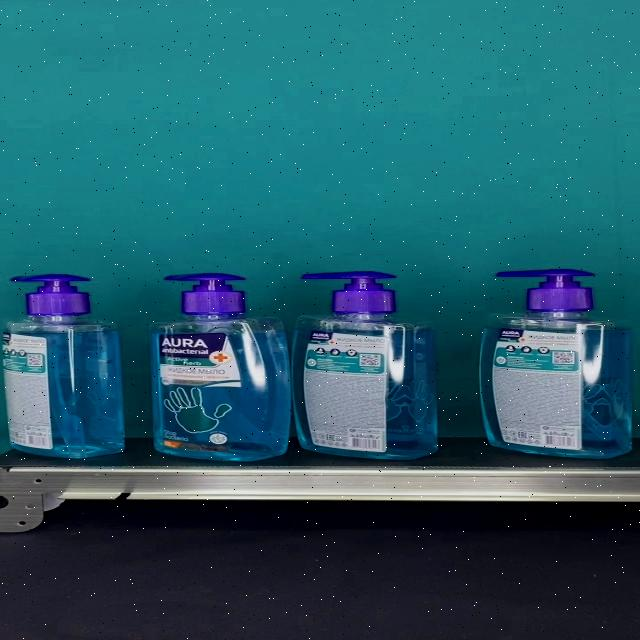Bottle: (478, 269, 632, 458), (292, 271, 437, 460), (151, 272, 291, 461), (3, 274, 124, 458)
Cap: (496, 269, 596, 312), (301, 272, 396, 314), (164, 272, 245, 314), (10, 275, 91, 315)
